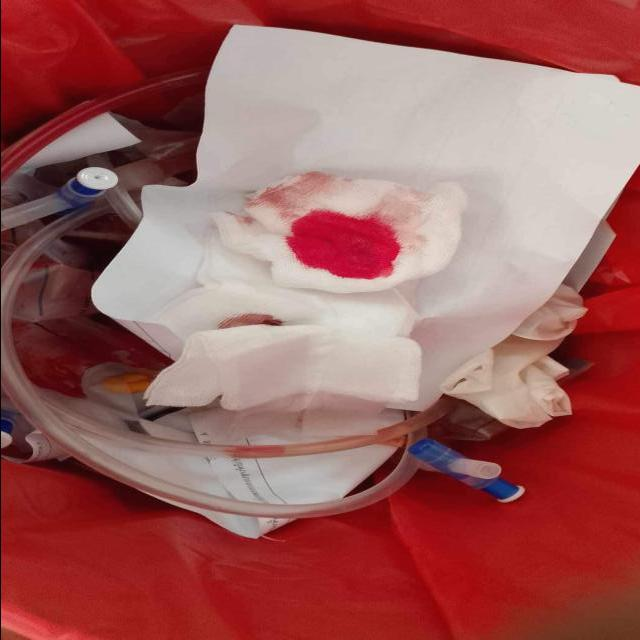General: (3, 24, 639, 543)
Infectious: (209, 172, 468, 295), (142, 324, 423, 414)
Sharps: (14, 111, 143, 175), (407, 438, 526, 504), (2, 167, 119, 233)
